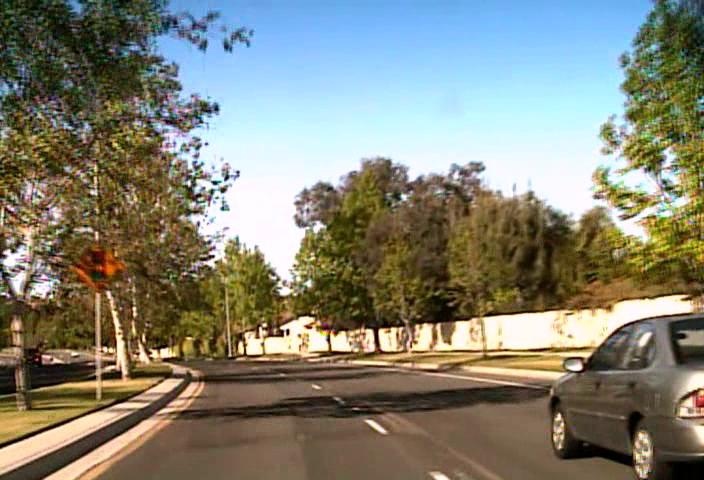signalAhead: (70, 241, 126, 292)
